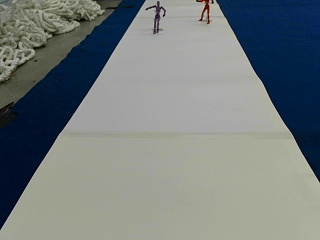pedestrian: (146, 0, 165, 32), (196, 0, 213, 22)
